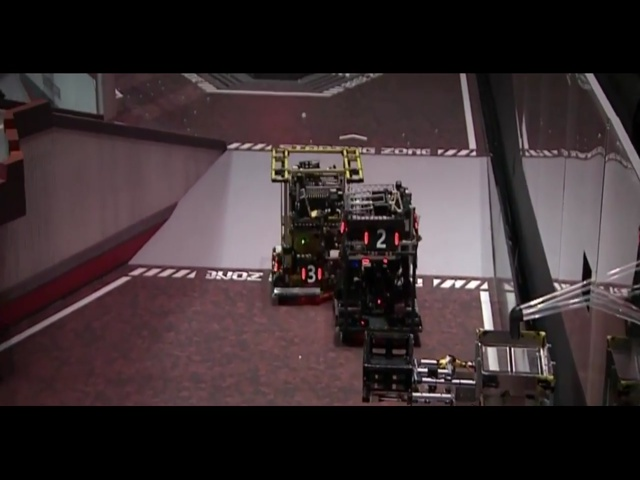plate: (285, 288, 326, 321), (348, 289, 370, 325), (247, 256, 274, 281), (245, 187, 275, 208), (296, 222, 320, 248), (326, 204, 339, 226), (363, 184, 378, 198)
